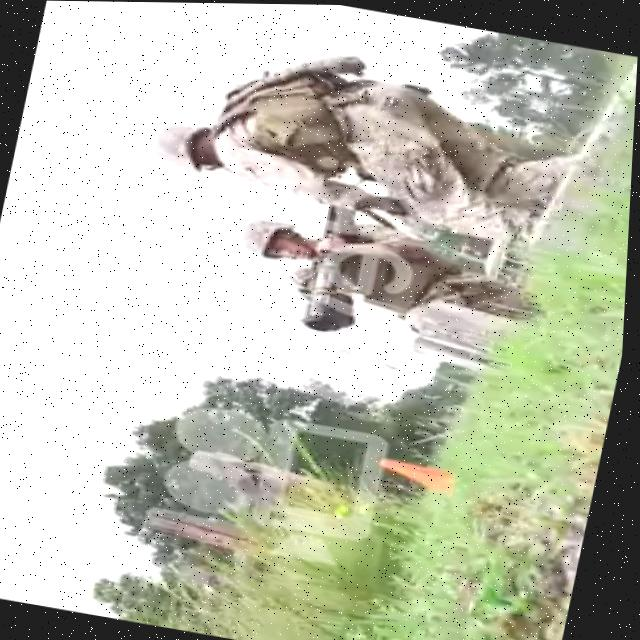rocket: (294, 199, 379, 334)
